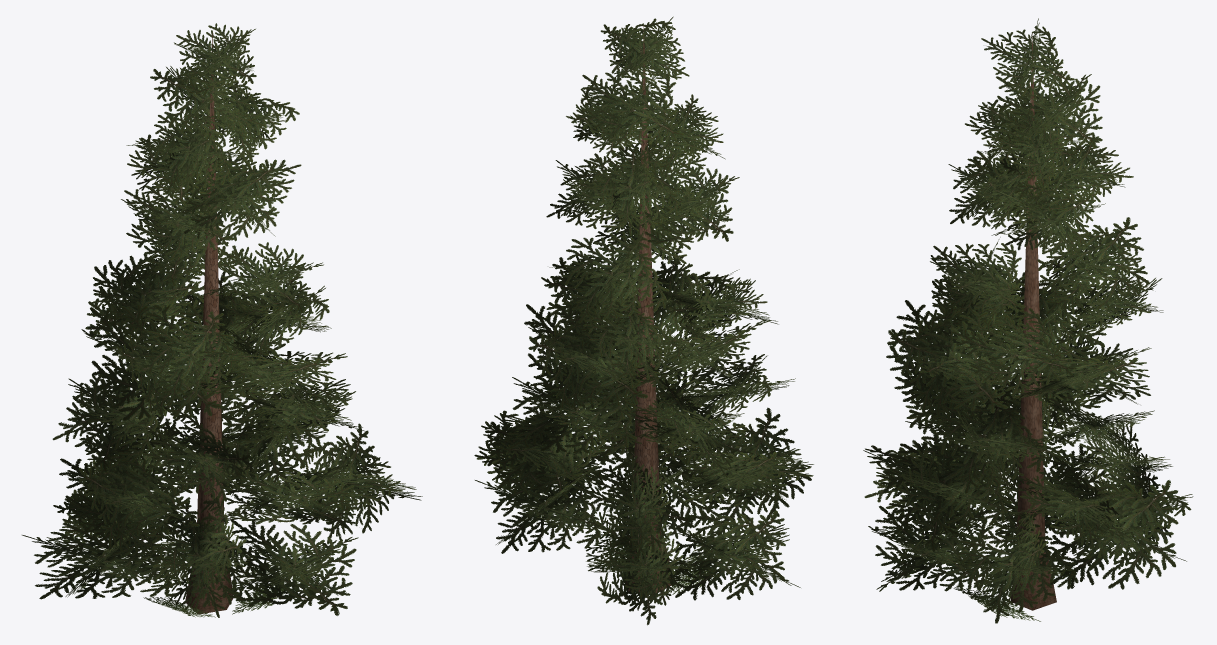
The model's file is spruce.glb.
3 views of the same model, side by side, from view 1: azimuth 30°, elevation 25°; view 2: azimuth 150°, elevation 25°; view 3: azimuth 270°, elevation 25° (orthographic). The views are drawn at different scales.
Parts seen in each view (by area): view 1: spruce_foliage, spruce_wood; view 2: spruce_foliage, spruce_wood; view 3: spruce_foliage, spruce_wood.
Boxes of the visible parts, left/top/right/bottom form: spruce_foliage: left=22, top=23, right=422, bottom=617; spruce_wood: left=185, top=32, right=233, bottom=614; spruce_foliage: left=474, top=16, right=813, bottom=625; spruce_wood: left=625, top=25, right=672, bottom=592; spruce_foliage: left=863, top=18, right=1193, bottom=623; spruce_wood: left=1011, top=33, right=1056, bottom=610.
Size of the model in its own units: 6.44 by 9.59 by 5.32.
Materials: 2 (2 with a texture image).
